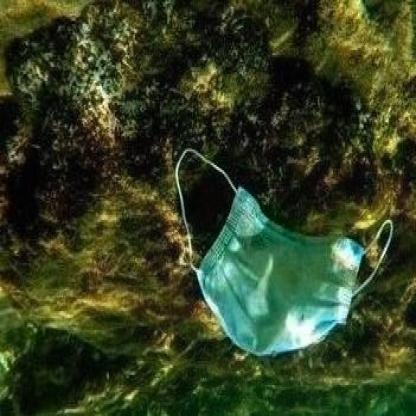Mask: (172, 148, 396, 359)
